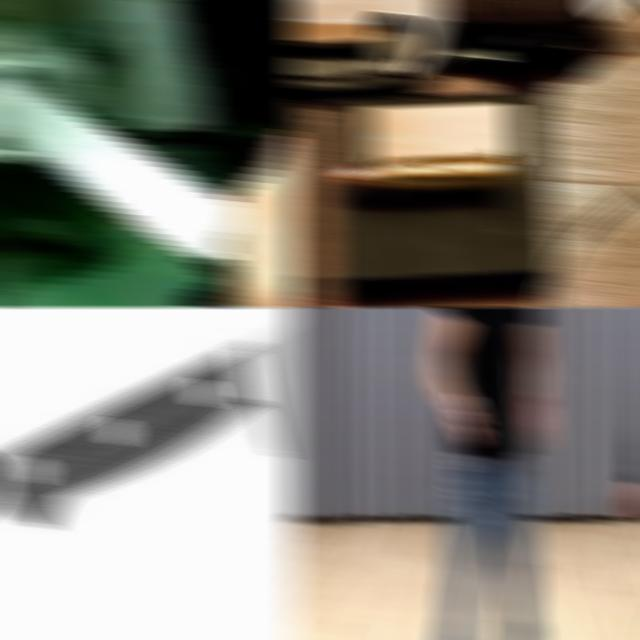Knife: (0, 322, 300, 526), (0, 84, 240, 264)
Knife_Handle: (448, 367, 485, 448)
